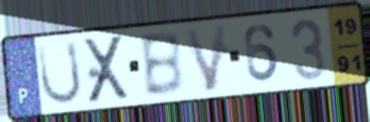3: (289, 17, 326, 83)
6: (243, 23, 282, 84)
B: (137, 29, 187, 100)
U: (35, 38, 85, 108)
V: (181, 22, 229, 95)
X: (81, 32, 133, 107)
